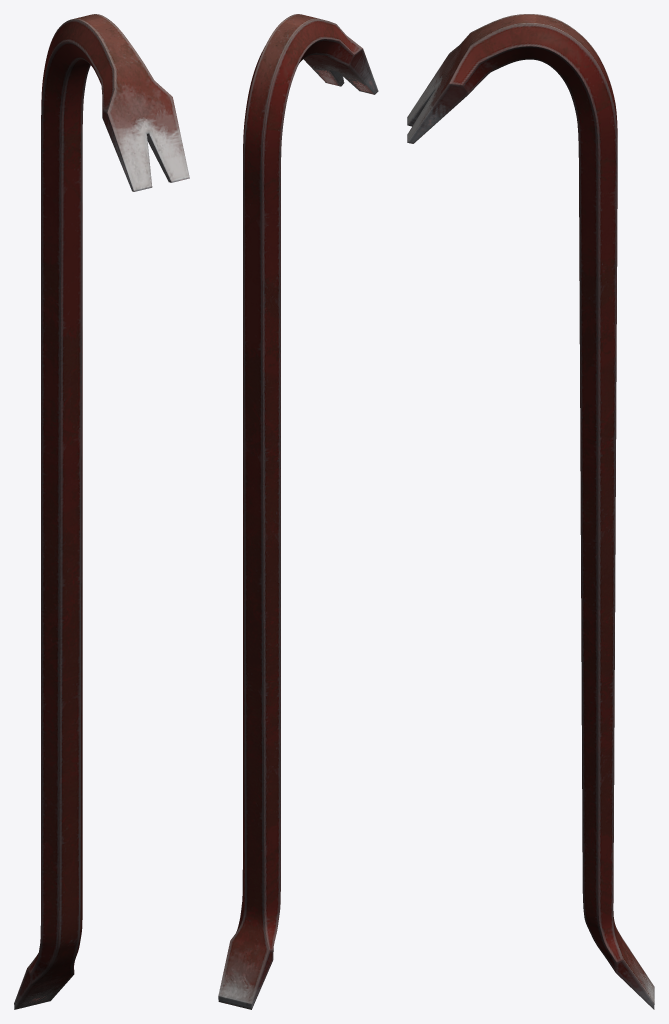
Rendered from crowbar.glb.
3 views of the same model, side by side, from view 1: azimuth 30°, elevation 25°; view 2: azimuth 150°, elevation 25°; view 3: azimuth 270°, elevation 25° (orthographic). The views are drawn at different scales.
Parts seen in each view (by area): view 1: crowbar; view 2: crowbar; view 3: crowbar.
Boxes of the visible parts, bbox=[...] form: crowbar: bbox=[14, 14, 189, 1009]; crowbar: bbox=[218, 14, 378, 1009]; crowbar: bbox=[407, 14, 654, 1009].
Size of the model in its own units: 6.67 by 101 by 22.94.
1 material, 1 textured.
